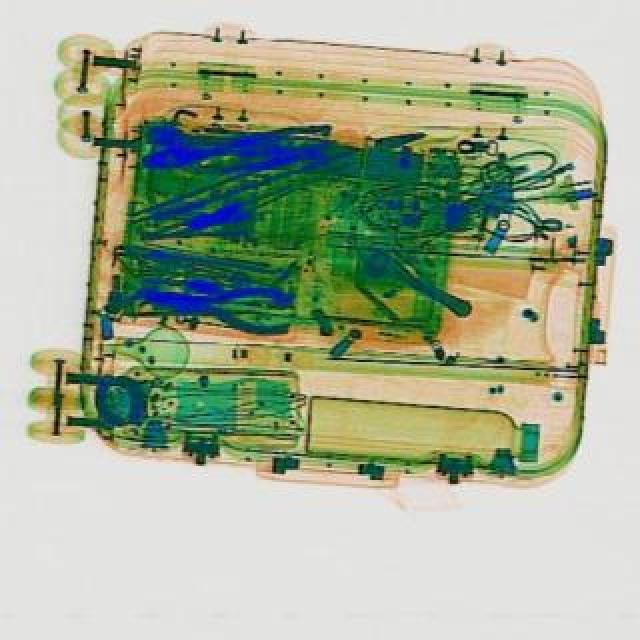wrench: (136, 270, 300, 338), (146, 120, 340, 176)
